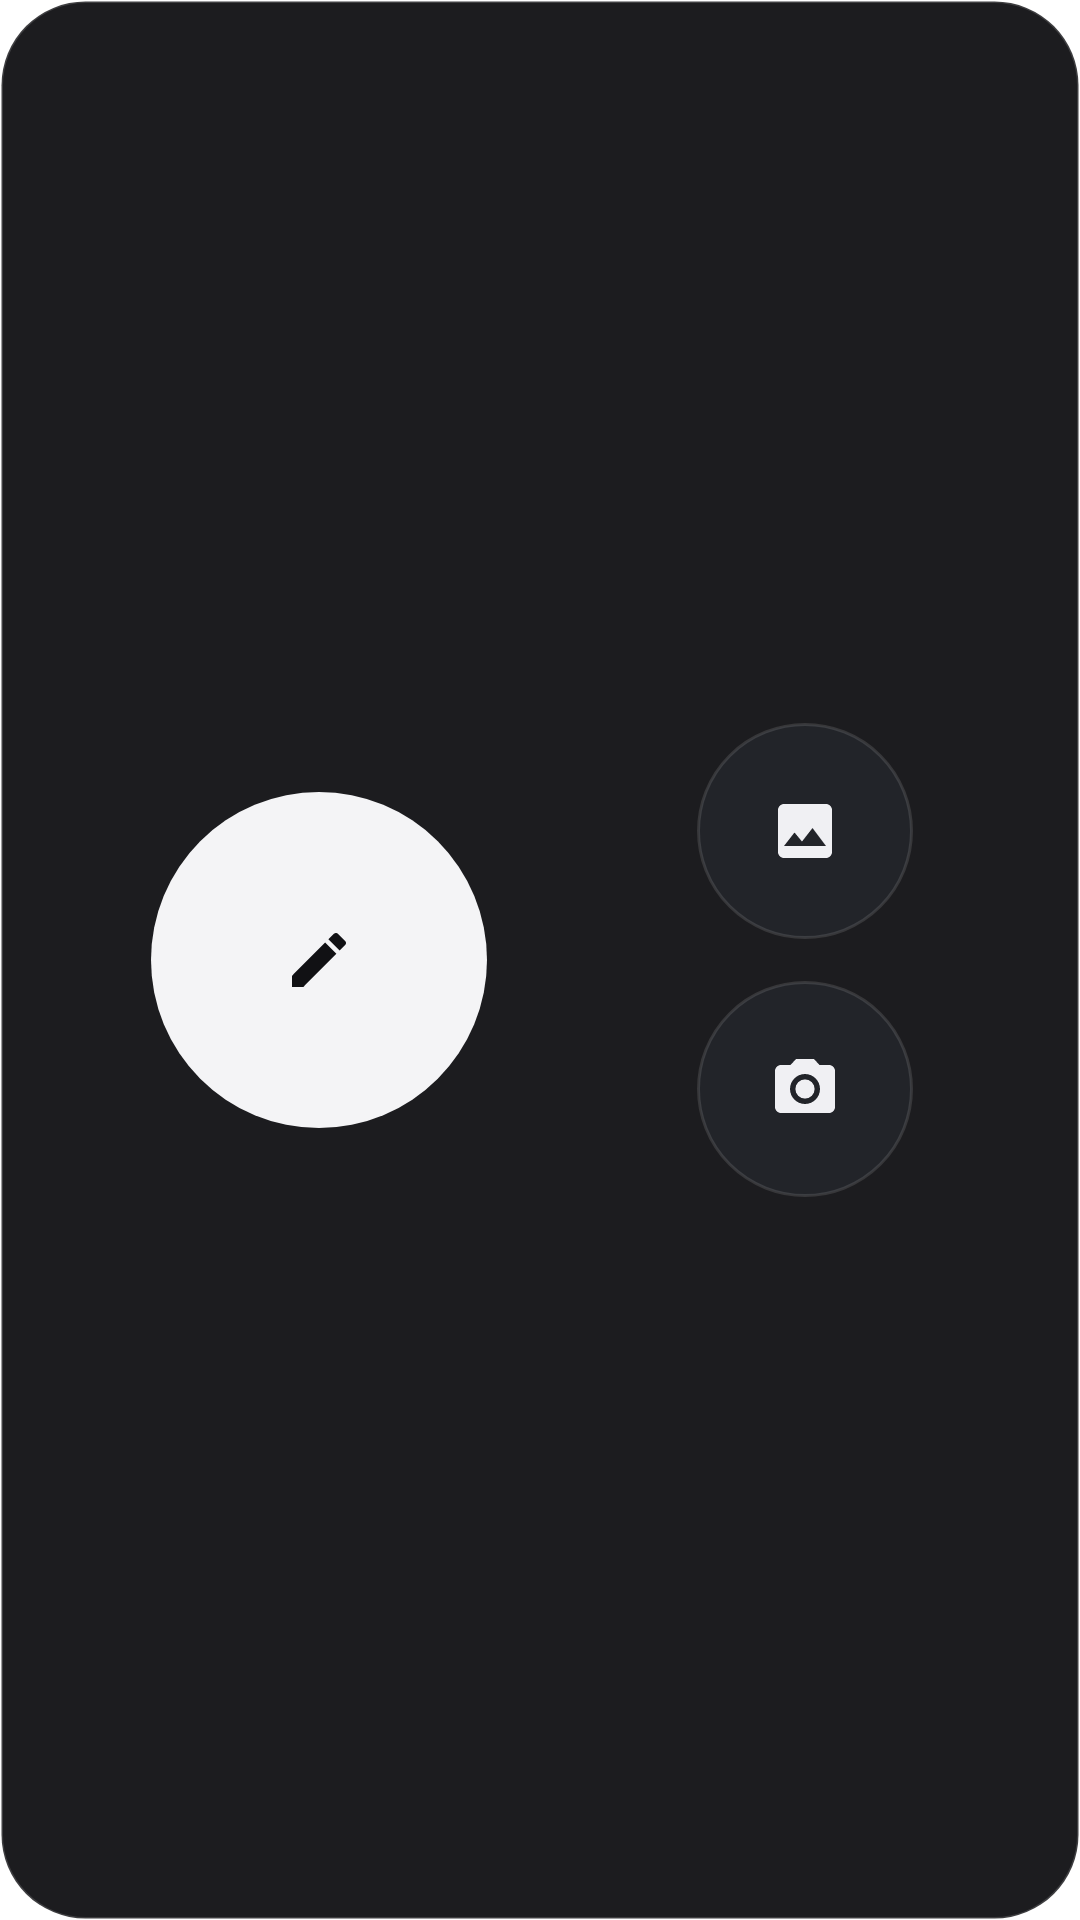

Named icons in this screenshot (1080 × 1920) and their bounding boxes, [x1, y1, x2, y2]:
widget camera: [775, 1059, 835, 1113]
widget gallery: [778, 804, 832, 858]
widget pen: [292, 933, 346, 987]
